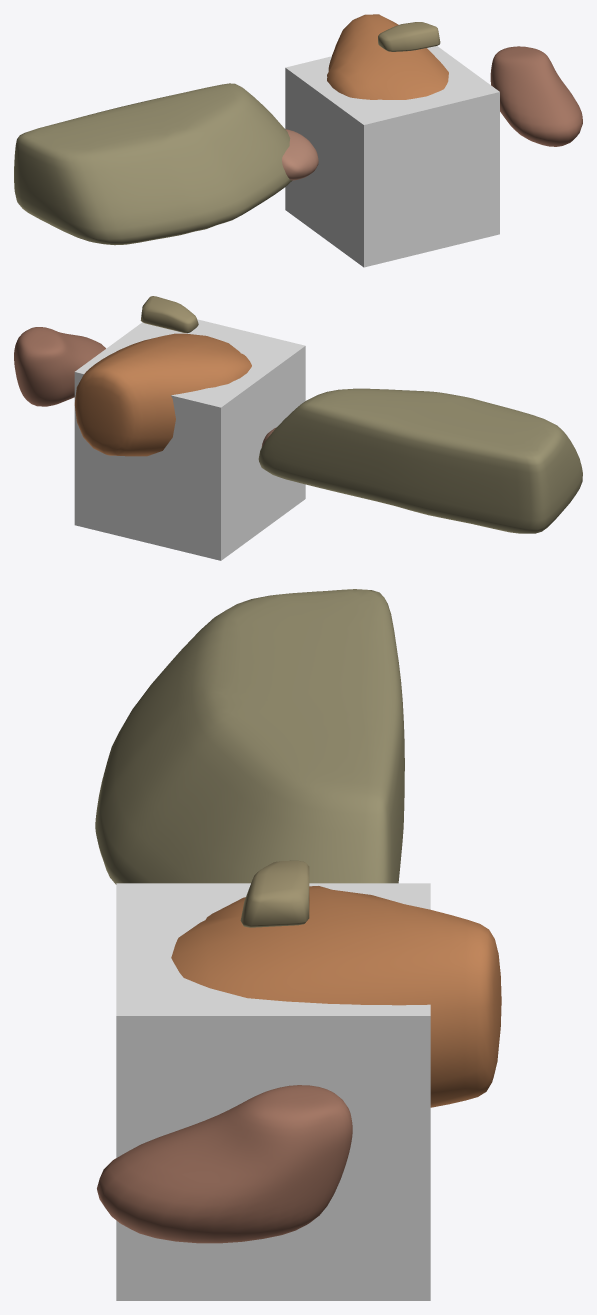
File: RockBand.fbx
3 views of the same model, one above another, from view 1: azimuth 30°, elevation 25°; view 2: azimuth 150°, elevation 25°; view 3: azimuth 270°, elevation 25° (orthographic). The views are drawn at different scales.
Visible parts, largest first — view 1: Piano, Drum, guitar, SandHammer, Pick, Do; view 2: Drum, Piano, guitar, SandHammer, Pick; view 3: Piano, Drum, guitar, SandHammer, Pick.
Part boxes in pixels (left/top/right/bottom): Piano: left=285, top=46, right=499, bottom=267; Drum: left=14, top=83, right=292, bottom=245; guitar: left=327, top=14, right=448, bottom=99; SandHammer: left=490, top=46, right=582, bottom=146; Pick: left=378, top=22, right=440, bottom=51; Do: left=282, top=129, right=318, bottom=180; Drum: left=258, top=388, right=582, bottom=533; Piano: left=74, top=319, right=305, bottom=560; guitar: left=74, top=333, right=251, bottom=456; SandHammer: left=14, top=327, right=105, bottom=406; Pick: left=140, top=296, right=198, bottom=333; Piano: left=116, top=883, right=430, bottom=1300; Drum: left=95, top=589, right=404, bottom=884; guitar: left=171, top=886, right=501, bottom=1107; SandHammer: left=97, top=1085, right=352, bottom=1243; Pick: left=240, top=860, right=309, bottom=927.
Bounding box in the file's own units: 764 × 265 × 258.
